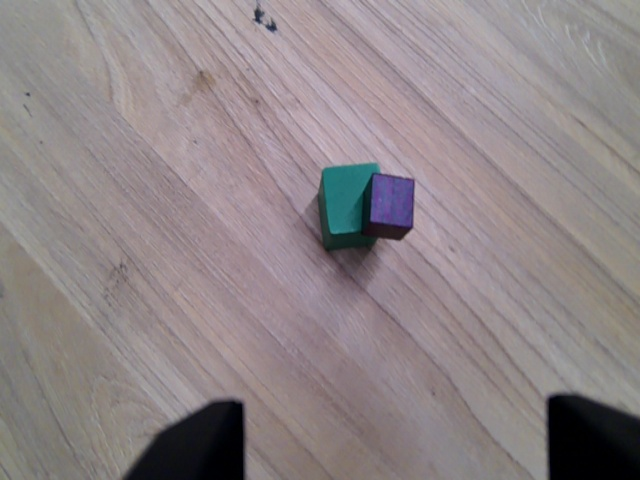brick: (362, 171, 416, 243)
